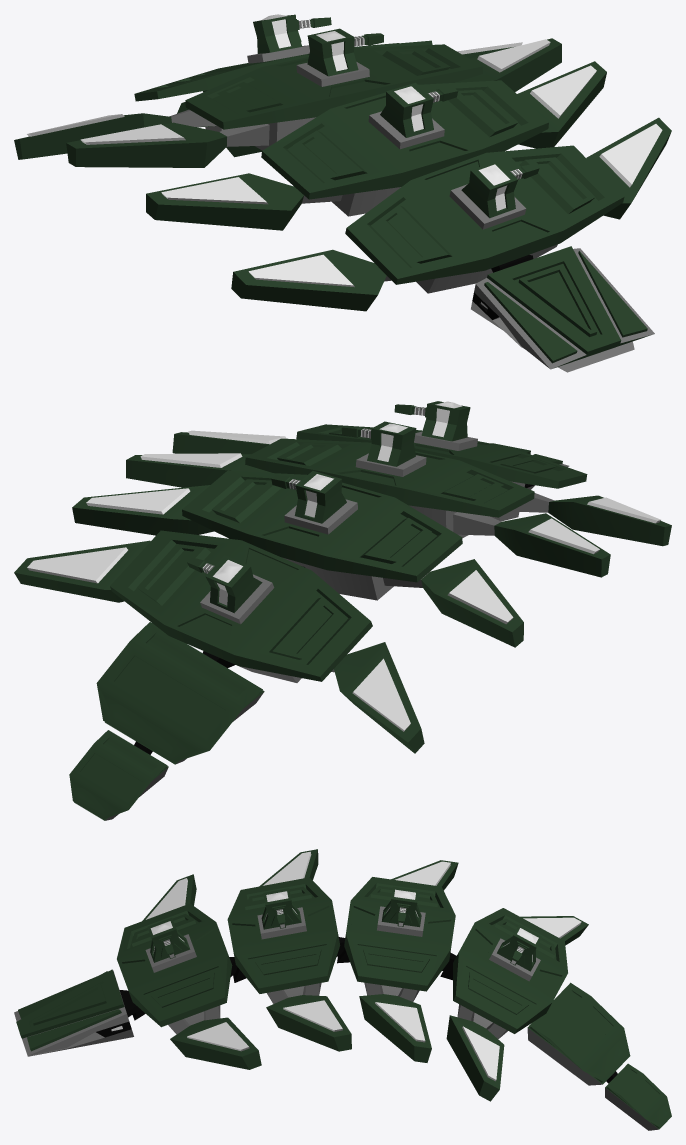
The model's file is boss1.fbx.
3 views of the same model, one above another, from view 1: azimuth 30°, elevation 25°; view 2: azimuth 150°, elevation 25°; view 3: azimuth 270°, elevation 25° (orthographic). The views are drawn at different scales.
Parts seen in each view (by area): view 1: Cube.004, Cube.003, Cube.002, Cube.006, Cube.001; view 2: Cube.001, Cube.002, Cube.003, Cube, Cube.004, Cube.005; view 3: Cube.002, Cube.003, Cube.004, Cube.001, Cube.006, Cube, Cube.005.
Part boxes in pixels (left/top/right/bottom): Cube.004: left=231, top=117, right=671, bottom=311; Cube.003: left=146, top=61, right=606, bottom=230; Cube.002: left=66, top=28, right=561, bottom=167; Cube.006: left=471, top=246, right=654, bottom=372; Cube.001: left=14, top=14, right=522, bottom=159; Cube.001: left=14, top=530, right=424, bottom=753; Cube.002: left=72, top=470, right=523, bottom=647; Cube.003: left=126, top=421, right=610, bottom=577; Cube: left=96, top=622, right=264, bottom=764; Cube.004: left=172, top=401, right=671, bottom=546; Cube.005: left=69, top=730, right=168, bottom=820; Cube.002: left=337, top=860, right=458, bottom=1062; Cube.003: left=227, top=849, right=351, bottom=1051; Cube.004: left=117, top=874, right=261, bottom=1069; Cube.001: left=440, top=908, right=588, bottom=1101; Cube.006: left=14, top=969, right=140, bottom=1056; Cube: left=527, top=982, right=630, bottom=1085; Cube.005: left=605, top=1063, right=671, bottom=1130.
Bounding box in the file's own units: 487 × 237 × 686.
